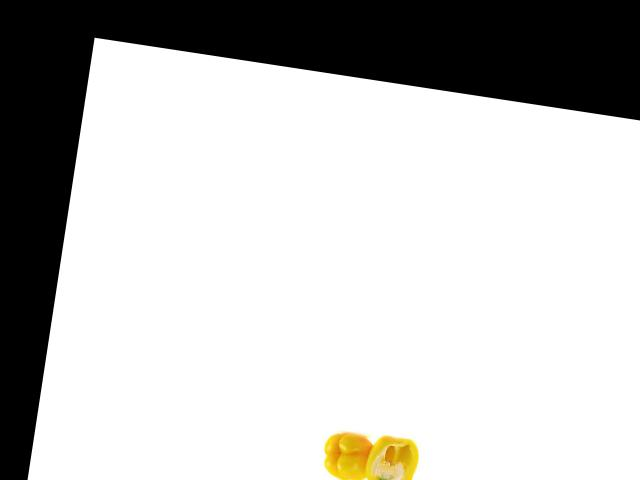bell_pepper: (352, 420, 426, 480)
